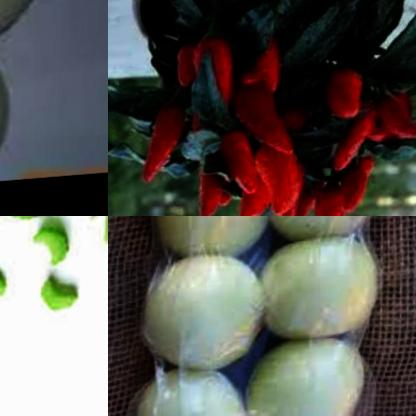celery: (33, 271, 80, 324), (33, 228, 73, 270), (94, 216, 108, 251)
hot pepper: (227, 81, 296, 163), (192, 38, 232, 148), (135, 106, 185, 190), (251, 141, 298, 216), (217, 135, 265, 200), (320, 76, 368, 130), (373, 98, 416, 150), (184, 173, 235, 216), (339, 162, 378, 216), (247, 45, 284, 99), (310, 180, 352, 216), (276, 186, 323, 216), (175, 44, 199, 95)
onion: (110, 216, 385, 416)
